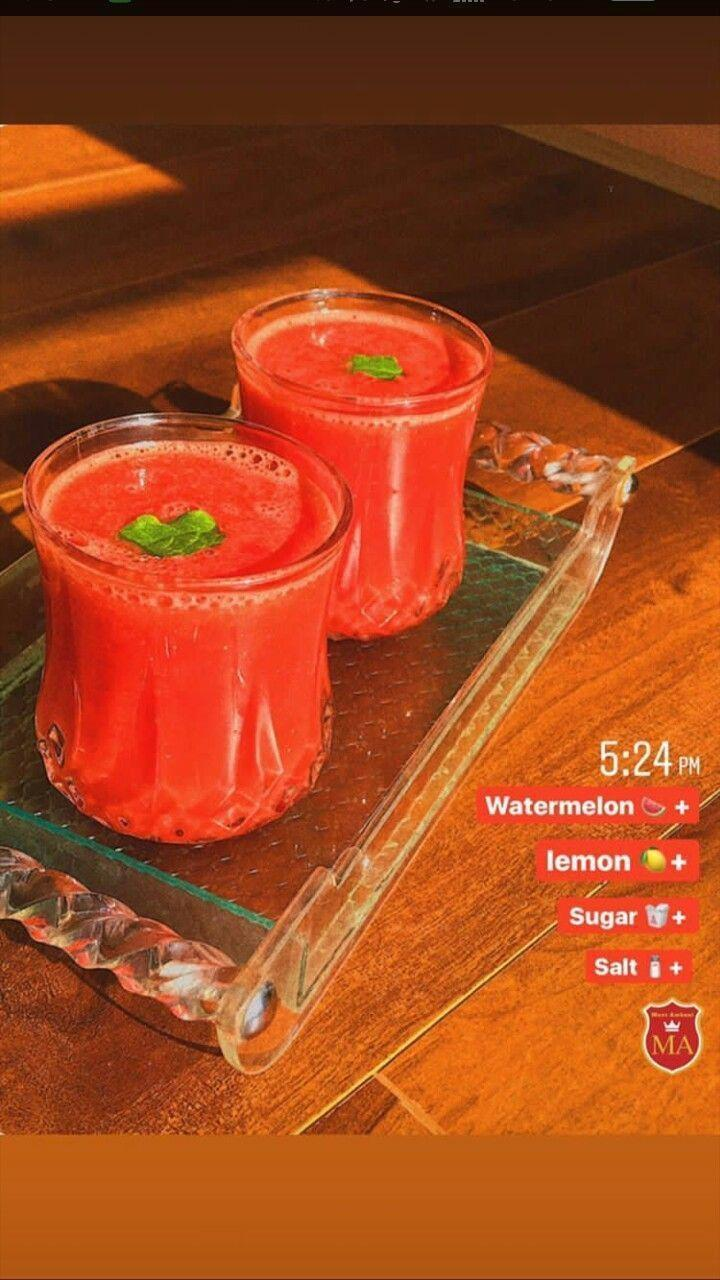glass-normal: (22, 408, 362, 846), (230, 286, 494, 636)
